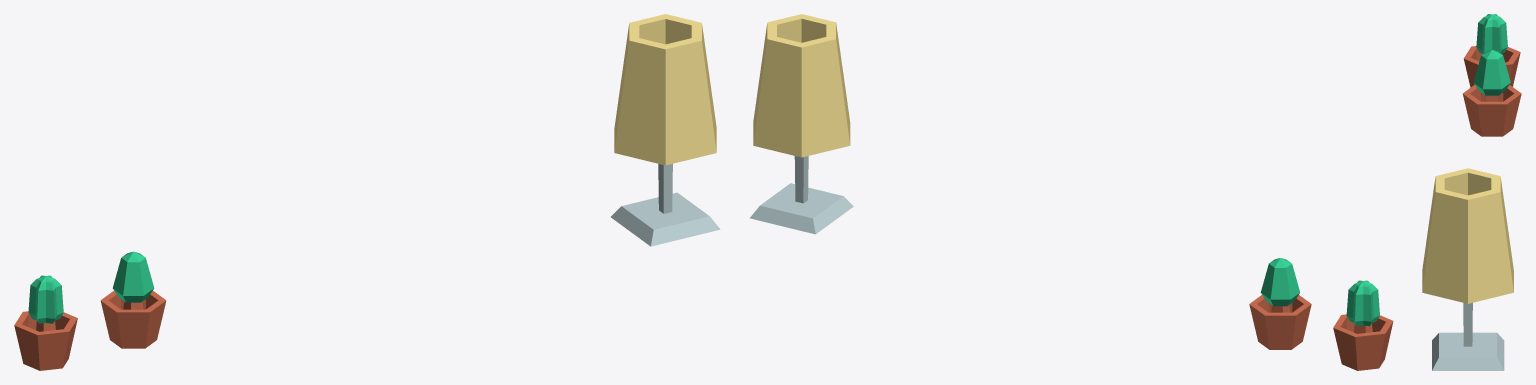
Rendered from Level_2_1-Items.fbx.
3 renders of one model, left to right at view 1: azimuth 30°, elevation 25°; view 2: azimuth 150°, elevation 25°; view 3: azimuth 270°, elevation 25°, orthographic. The views are drawn at different scales.
Visible parts, largest first — view 1: lampRoundTable, plantSmall3, plantSmall2; view 2: lampRoundTable, plantSmall3, plantSmall2; view 3: lampRoundTable, plantSmall3, plantSmall2.
Boxes of the visible parts, x1,y1,x2,y2 form: lampRoundTable: (611, 14, 720, 246); plantSmall3: (100, 251, 166, 348); plantSmall2: (14, 275, 77, 370); lampRoundTable: (750, 14, 853, 234); plantSmall3: (1249, 258, 1311, 349); plantSmall2: (1333, 280, 1393, 370); lampRoundTable: (1422, 168, 1513, 370); plantSmall3: (1462, 50, 1521, 136); plantSmall2: (1463, 14, 1520, 87).
Bounding box in the file's own units: 23.5 × 6.28 × 3.3.
